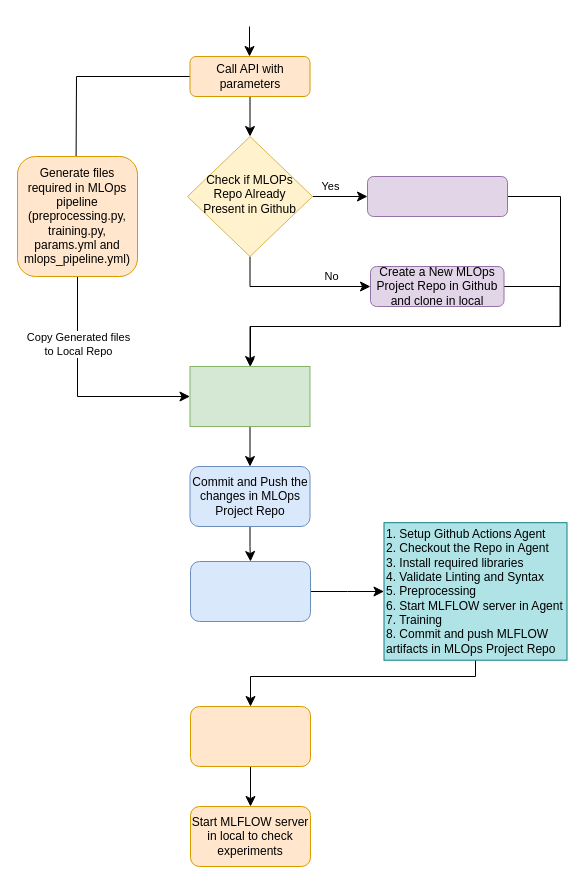
Some shapes in this 588 by 884 pixel diagram are drawn without their labels. Each missing label, with the centre of its shape:
Clone the MLOps Project Repo in Local: the point at 437,196
Git pull/clone the MLOps Project Repo in local: the point at 250,736
Github Actions Pipeline for MLOps Triggers automatically: the point at 250,591
Local Repo (Project-name-MLOps-Repository): the point at 249,396
